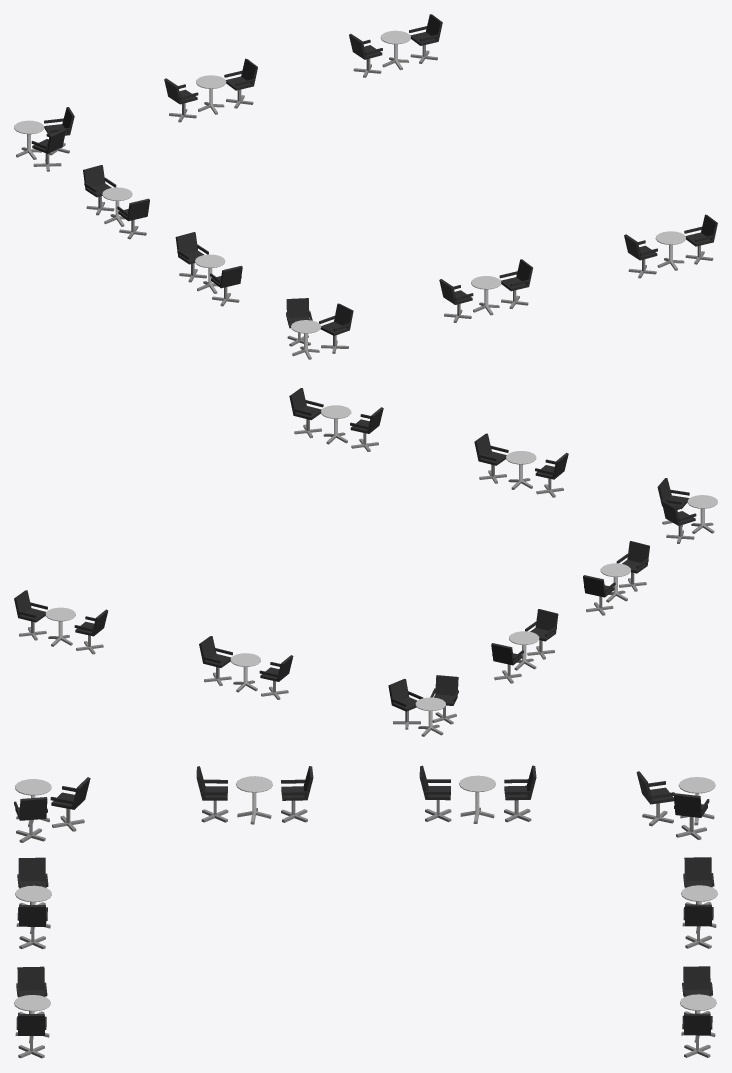
Rendered from d-roomcomp-r6-conferenceroom-in.glb.
The picture shows the model from 3 angles, top to bottom: view 1: azimuth 30°, elevation 25°; view 2: azimuth 150°, elevation 25°; view 3: azimuth 270°, elevation 25°; orthographic projection. The views are drawn at different scales.
Parts seen in each view (by area): view 1: table_chair.006, table_chair.009, table_chair.011, table_chair.012, table_chair.008, table_chair.003, table_chair.013, table_chair.007; view 2: table_chair.007, table_chair.009, table_chair.003, table_chair.008, table_chair.013, table_chair.012, table_chair.011, table_chair.006; view 3: table_chair.003, table_chair.009, table_chair.007, table_chair.006, table_chair.012, table_chair.013, table_chair.008, table_chair.011.
Part boxes in pixels (bbox=[...]): table_chair.006: bbox=[286, 298, 353, 359]; table_chair.009: bbox=[83, 165, 149, 239]; table_chair.011: bbox=[624, 214, 717, 278]; table_chair.012: bbox=[164, 58, 257, 122]; table_chair.008: bbox=[439, 259, 532, 322]; table_chair.003: bbox=[175, 232, 242, 306]; table_chair.013: bbox=[349, 14, 442, 77]; table_chair.007: bbox=[14, 107, 74, 171]; table_chair.007: bbox=[388, 675, 458, 736]; table_chair.009: bbox=[491, 609, 558, 683]; table_chair.003: bbox=[583, 541, 649, 615]; table_chair.008: bbox=[474, 433, 568, 497]; table_chair.013: bbox=[14, 590, 108, 654]; table_chair.012: bbox=[199, 636, 293, 699]; table_chair.011: bbox=[289, 388, 383, 451]; table_chair.006: bbox=[657, 478, 717, 543]; table_chair.003: bbox=[196, 766, 313, 824]; table_chair.009: bbox=[419, 765, 536, 823]; table_chair.007: bbox=[636, 771, 715, 839]; table_chair.006: bbox=[14, 777, 90, 842]; table_chair.012: bbox=[681, 857, 717, 948]; table_chair.013: bbox=[680, 966, 716, 1057]; table_chair.008: bbox=[15, 857, 51, 949]; table_chair.011: bbox=[14, 966, 50, 1058].
Size of the model in its own units: 16.25 by 1.36 by 19.22.
1 material, 1 textured.
